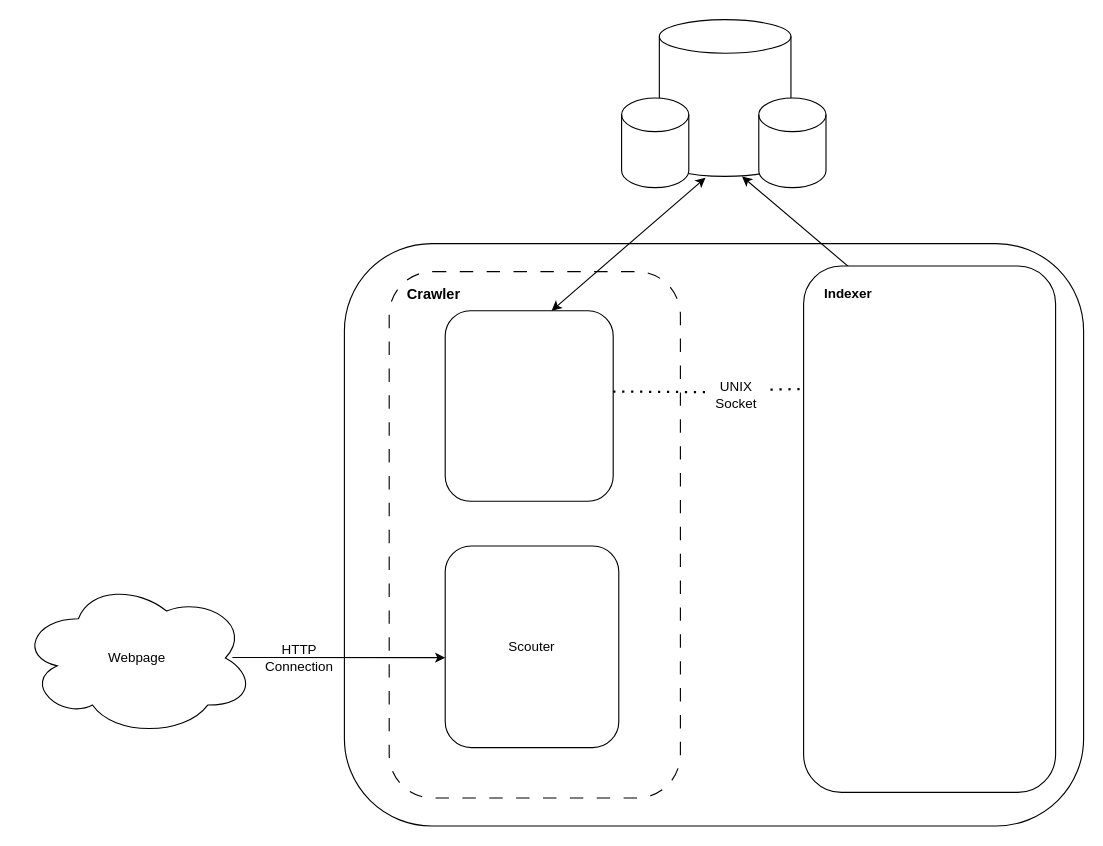
Image size: 1103x846. Some labels were removed from this diagram. The centre of each missing label's shape, as x and y in pixels:
"Database" goes at (724,97).
"Parser" goes at (528,405).
